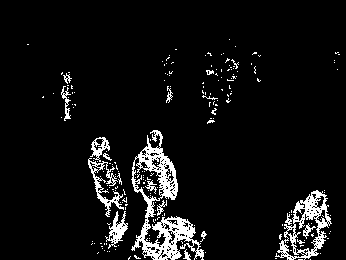person: (132, 128, 178, 251), (86, 136, 128, 250), (278, 184, 332, 260)
